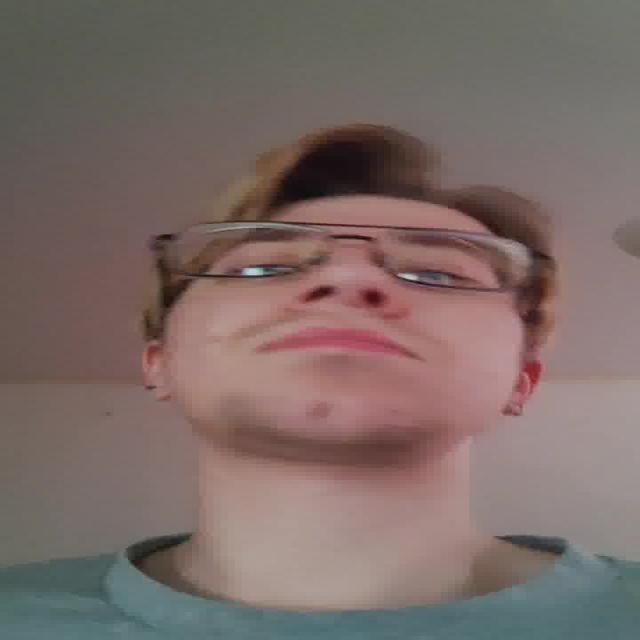earlobe: (145, 384, 177, 405), (498, 400, 530, 418)
eye: (399, 266, 480, 290), (222, 259, 306, 280)
nose: (290, 293, 399, 335)
wholeear: (500, 356, 547, 418), (140, 341, 176, 405)
